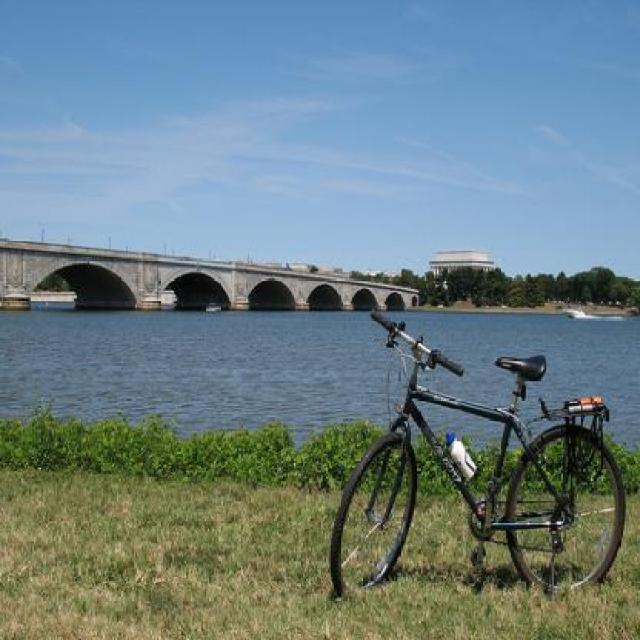ship: (560, 304, 588, 318)
